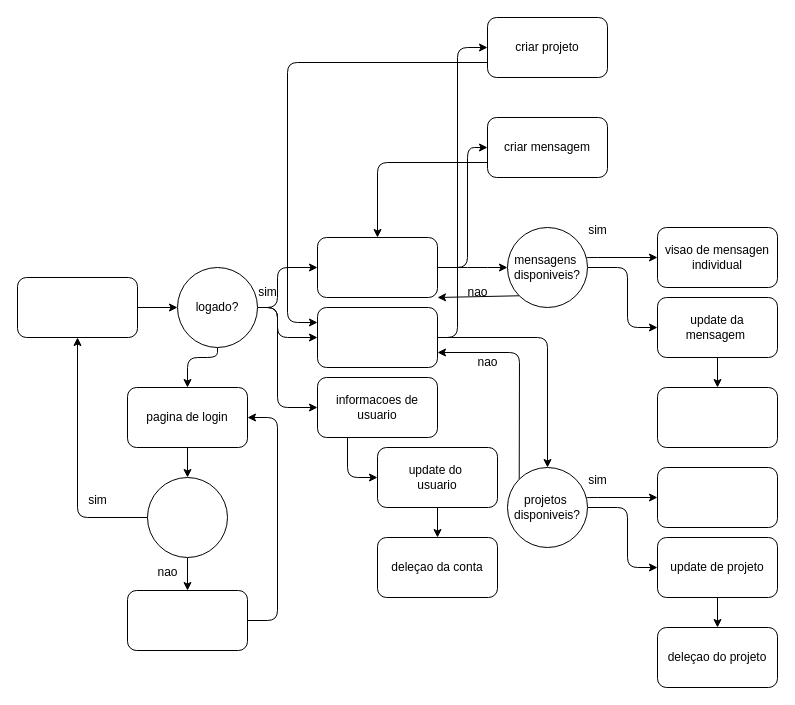
This 795x705 diagram has some shape labels left out. Here are the shapes that lost their labels. From the top down, the centre of each, then its label:
[377,267]: lista de mensagens
[77,307]: pagina principal
[377,337]: lista de projetos
[717,417]: deleçao da mensagem
[187,517]: ja tem conta?
[717,497]: visao de projeto individual
[187,620]: pagina de cadastro
